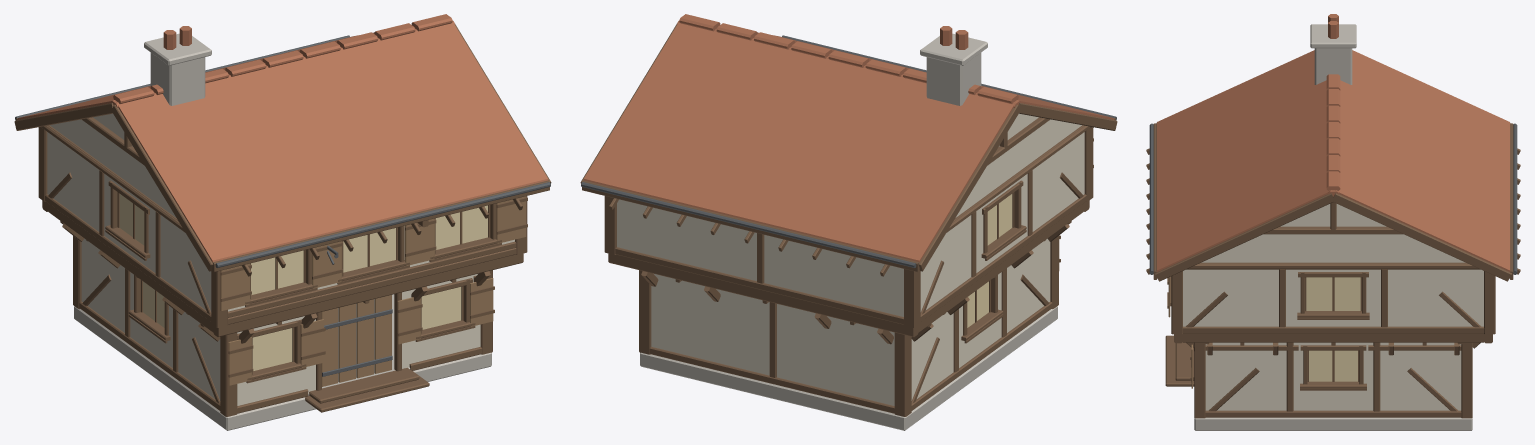
The model's file is house_a.glb.
3 renders of one model, left to right at view 1: azimuth 30°, elevation 25°; view 2: azimuth 150°, elevation 25°; view 3: azimuth 270°, elevation 25°, orthographic. The views are drawn at different scales.
Visible parts, largest first — view 1: house_a; view 2: house_a; view 3: house_a.
Boxes of the visible parts, x1,y1,x2,y2 form: house_a: (14, 14, 551, 430); house_a: (580, 14, 1117, 430); house_a: (1146, 14, 1520, 430).
Size of the model in its own units: 13.29 by 12.62 by 13.97.
